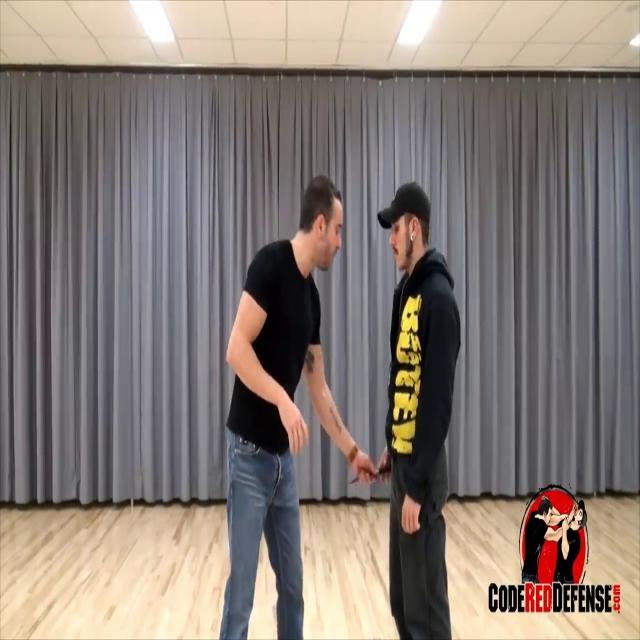Knife_Handle: (348, 445, 393, 486)
